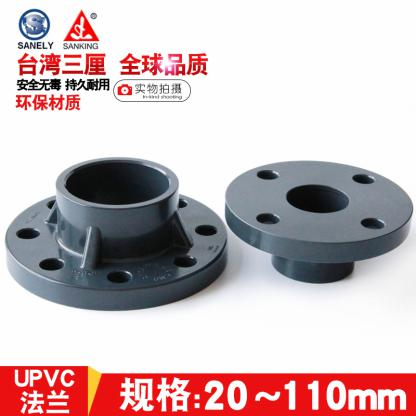FOD: (4, 154, 229, 312), (221, 156, 415, 288)
